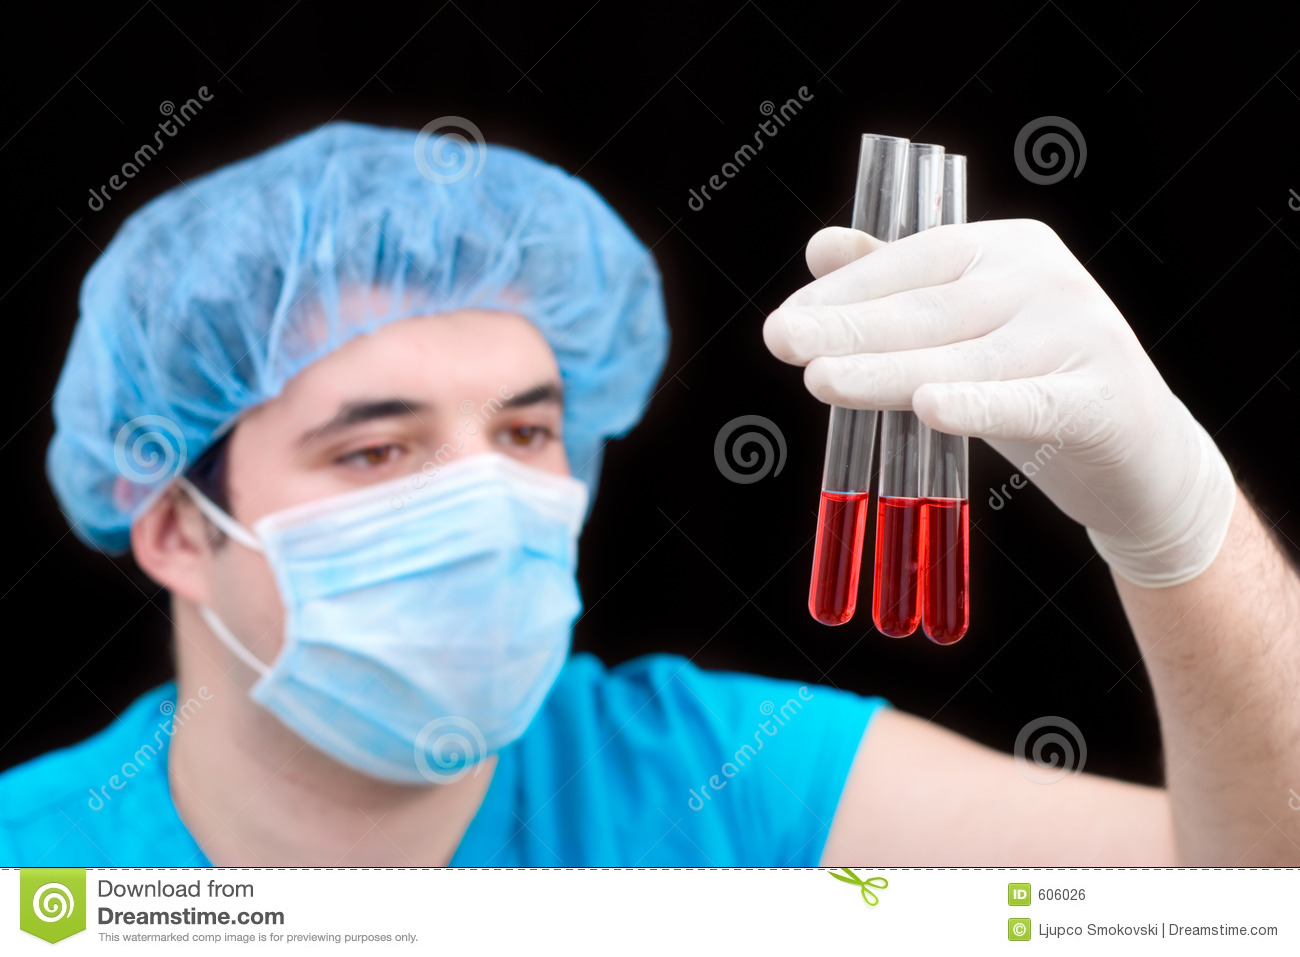mask: (258, 471, 594, 786)
